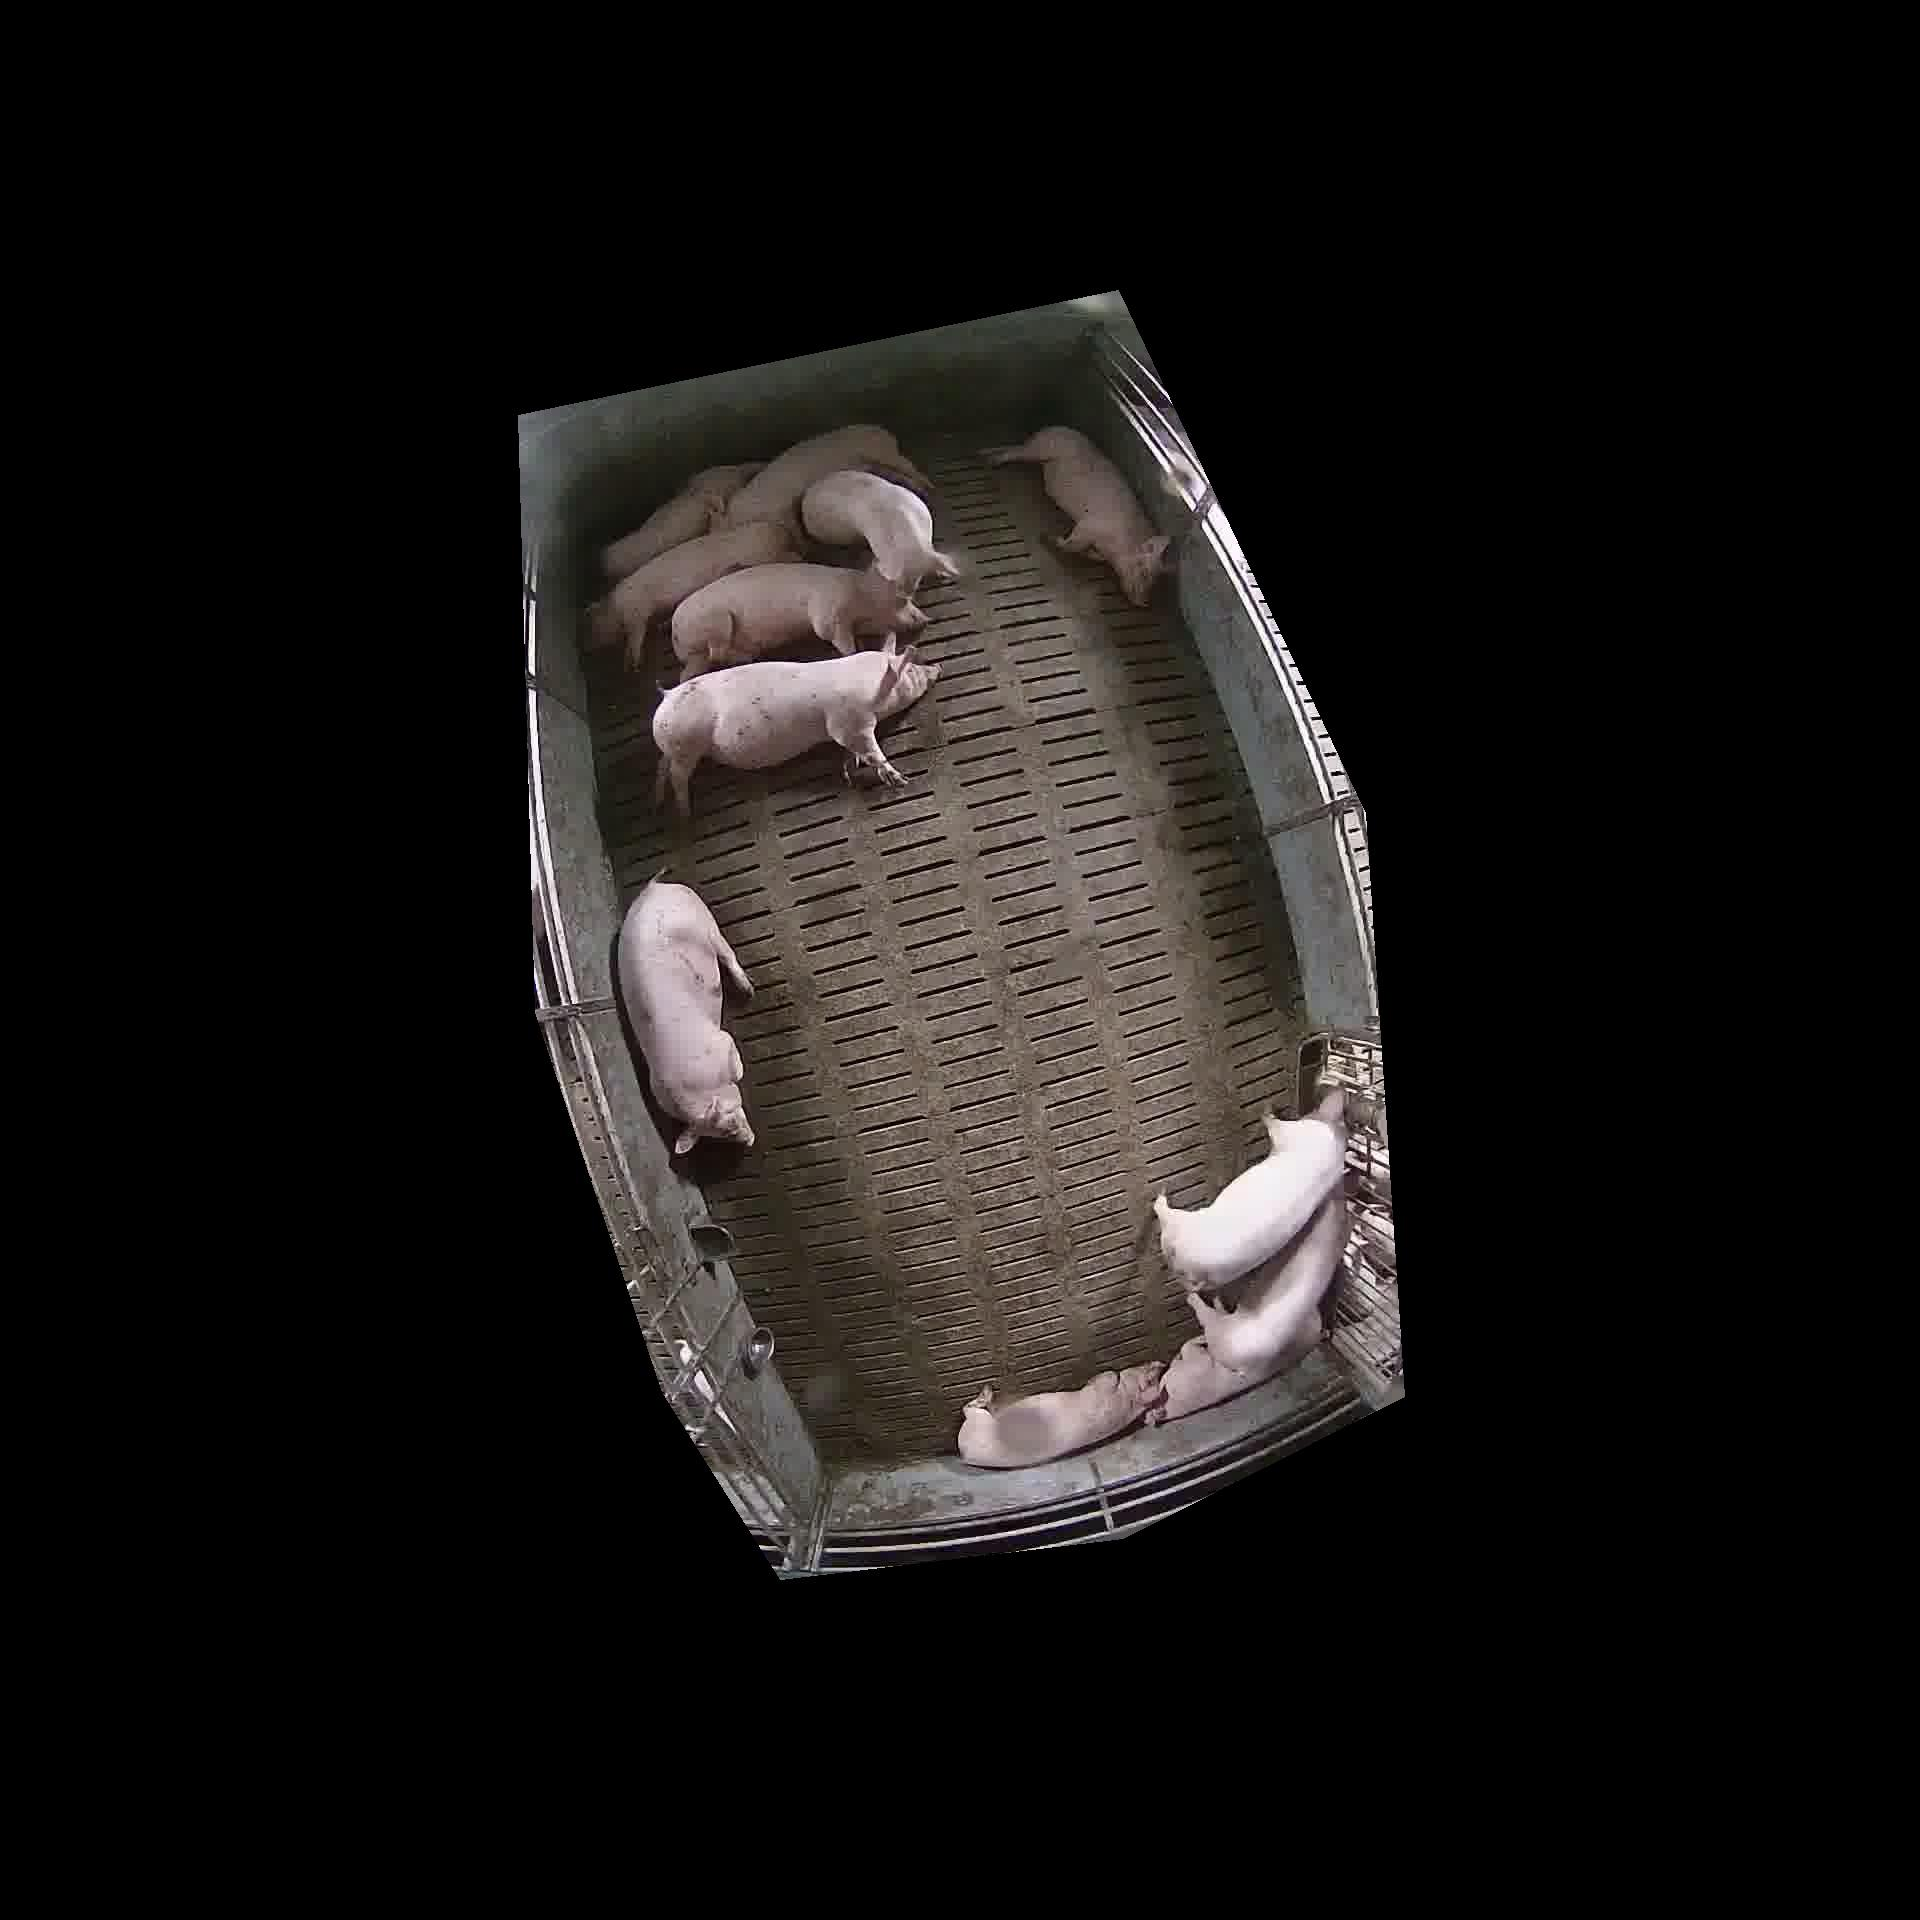pig: (652, 638, 937, 814), (1153, 1088, 1345, 1285), (617, 879, 753, 1153), (985, 427, 1167, 605), (587, 522, 798, 666), (1187, 1187, 1350, 1371), (672, 563, 928, 679), (724, 425, 928, 536), (1145, 1308, 1326, 1426), (958, 1363, 1162, 1466), (802, 469, 958, 594), (601, 462, 761, 580)
